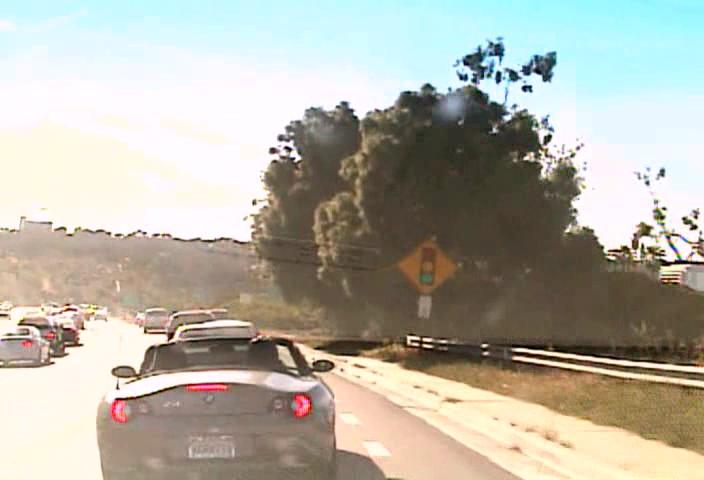signalAhead: (395, 237, 458, 294)
